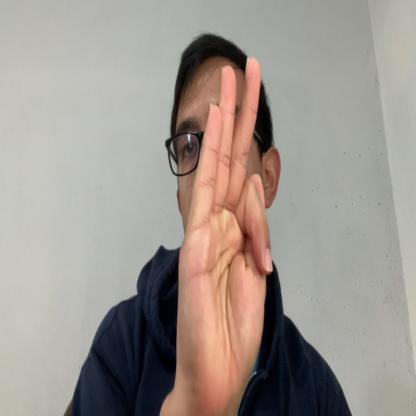F: (176, 56, 272, 399)
